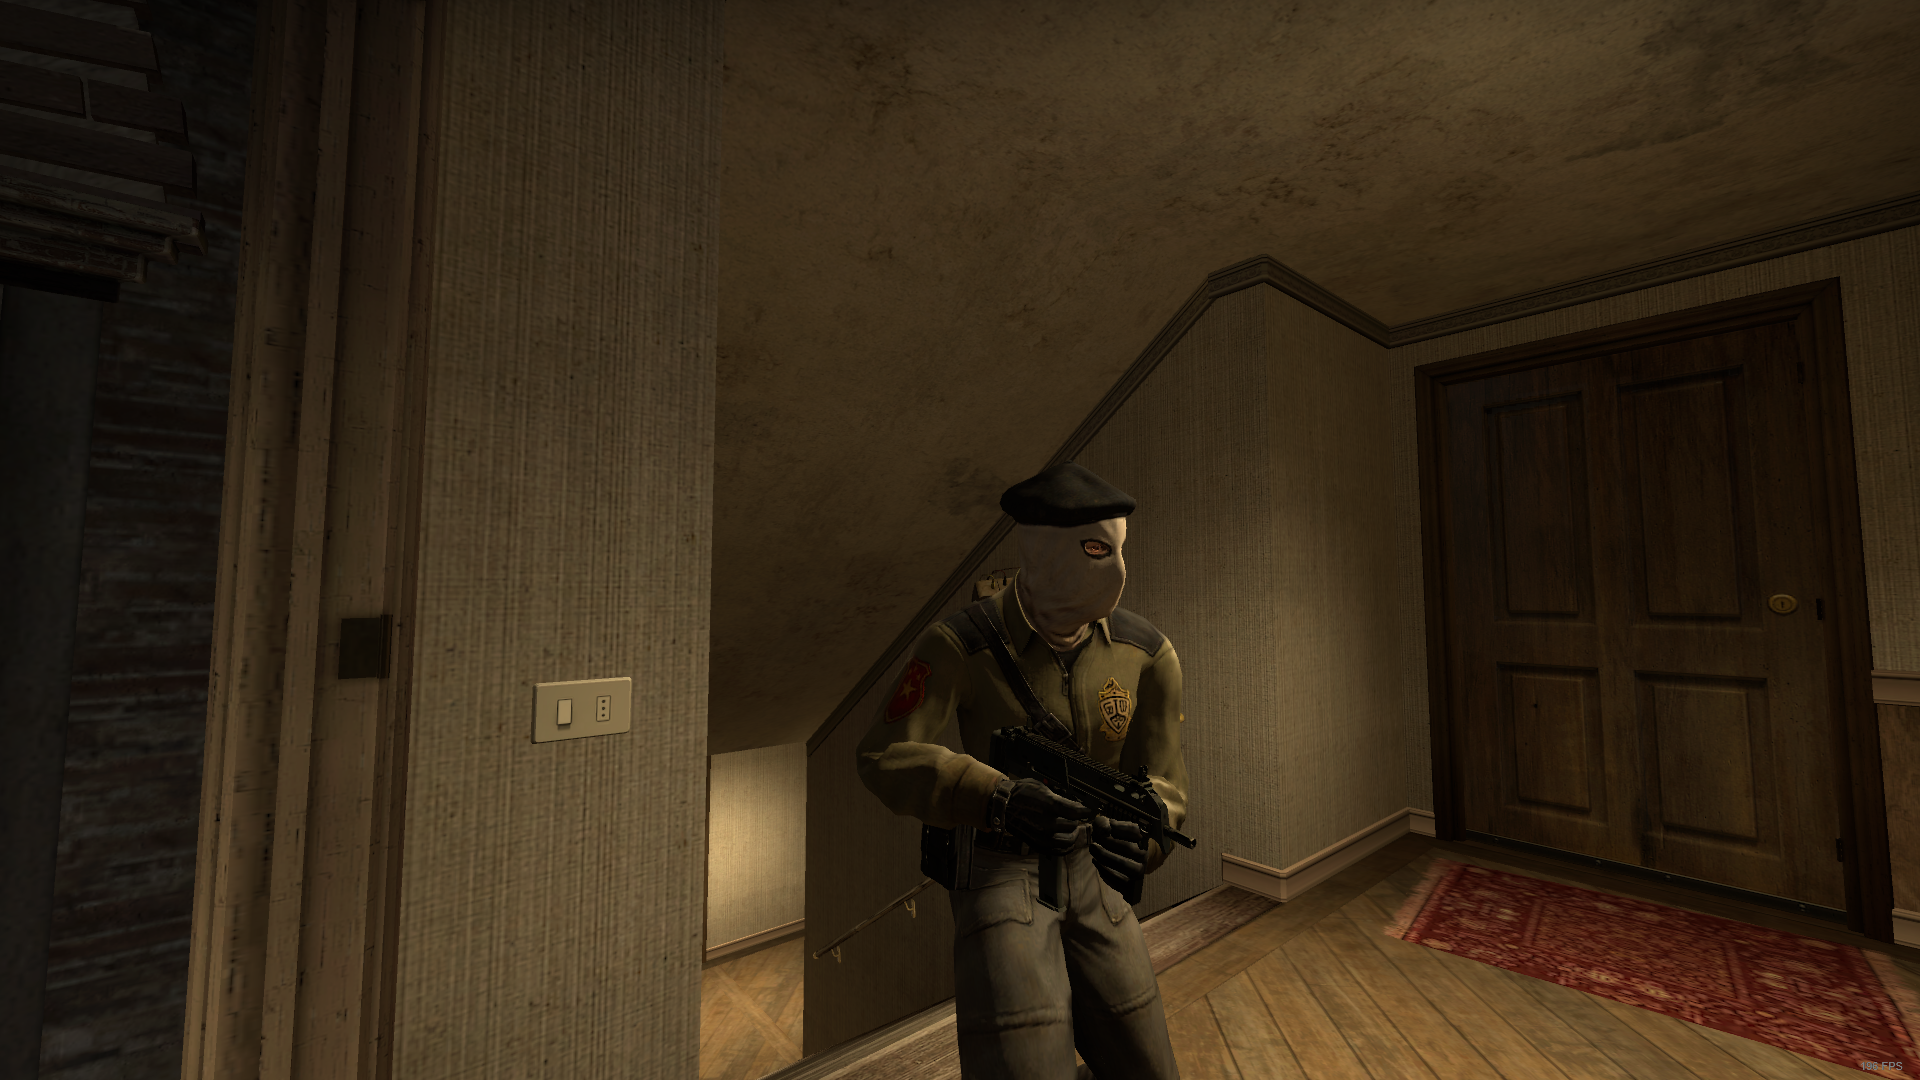t: (862, 467, 1189, 1080)
